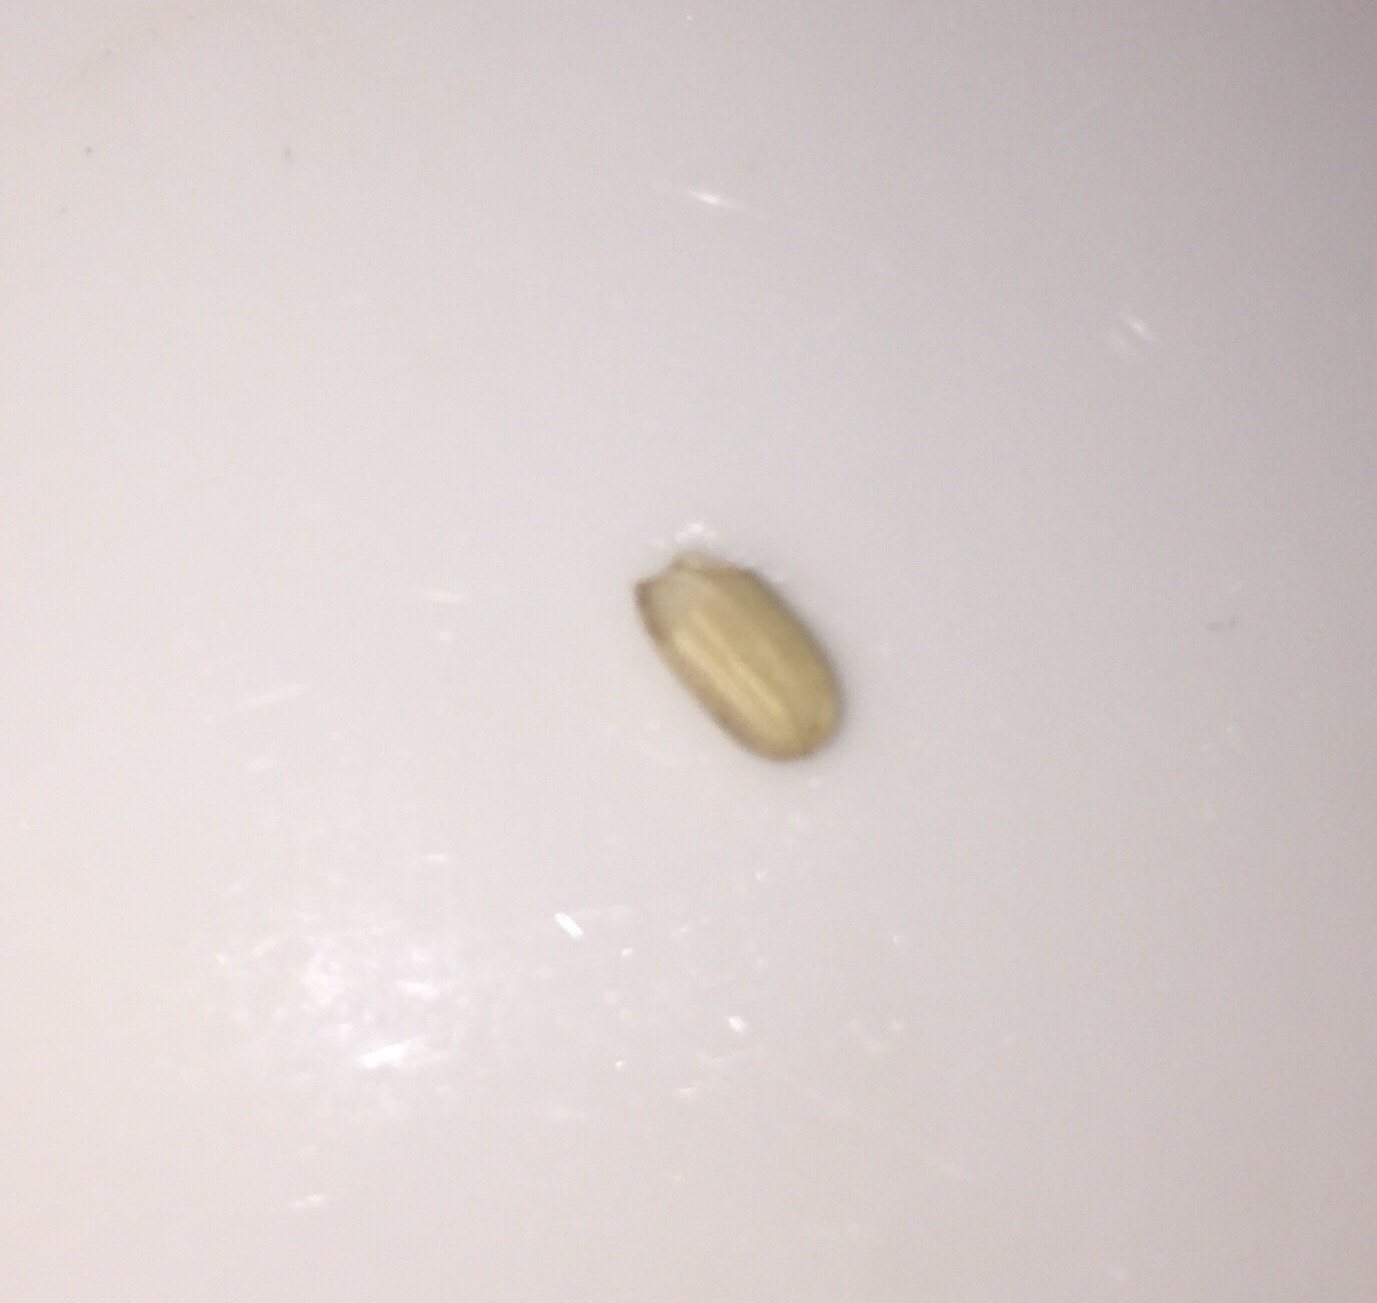Gao Lut Bac: (603, 522, 855, 784)
